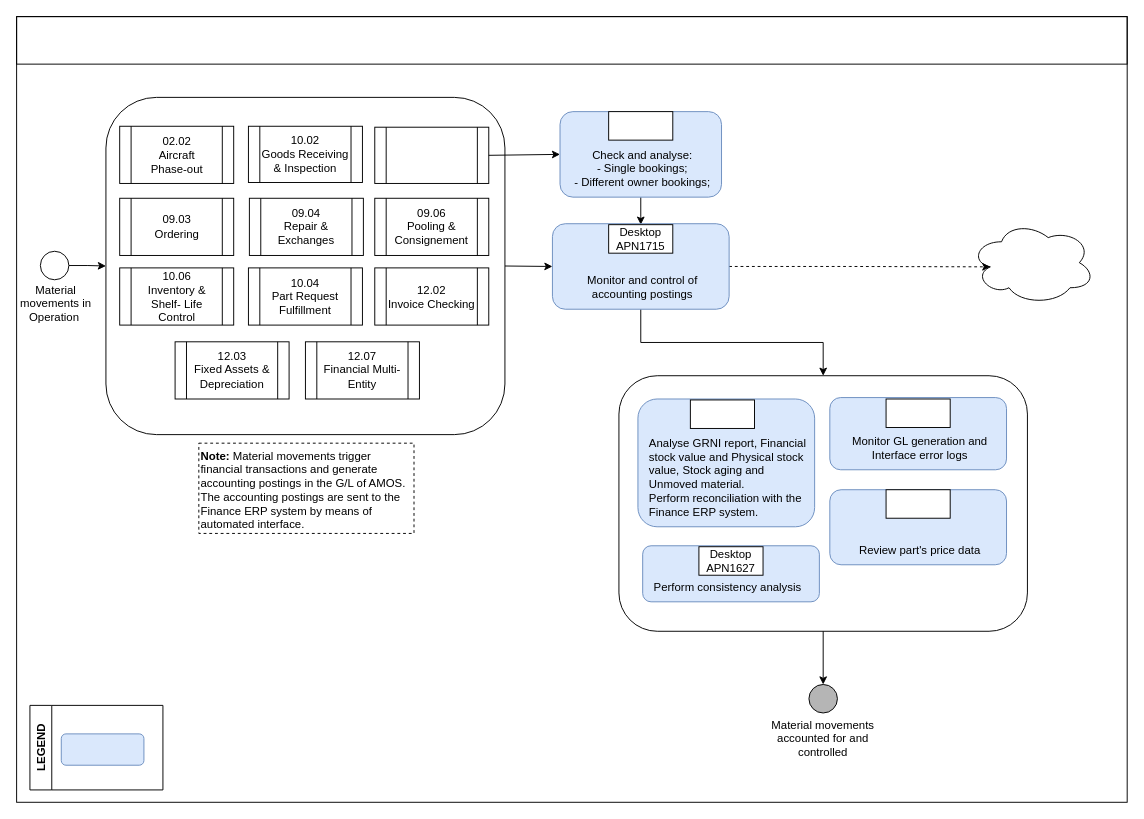
Image size: 1144x819. Some labels were removed from this diagram. The shapes that lost their labels are listed below. From the top down, each one's centre as x and y in pixels, then its label:
the point at 571,40: 12.01 Financial Accounting
the point at 640,125: Desktop APN1204
the point at 431,154: 08.04 Parts Removal & Installation
the point at 54,265: Start
the point at 1032,262: Transfer General Ledger Interface
the point at 721,413: Desktop APN1355
the point at 917,413: Desktop APN2172
the point at 917,503: Desktop APN1775
the point at 822,698: End
the point at 102,749: Accounting Dpt.
